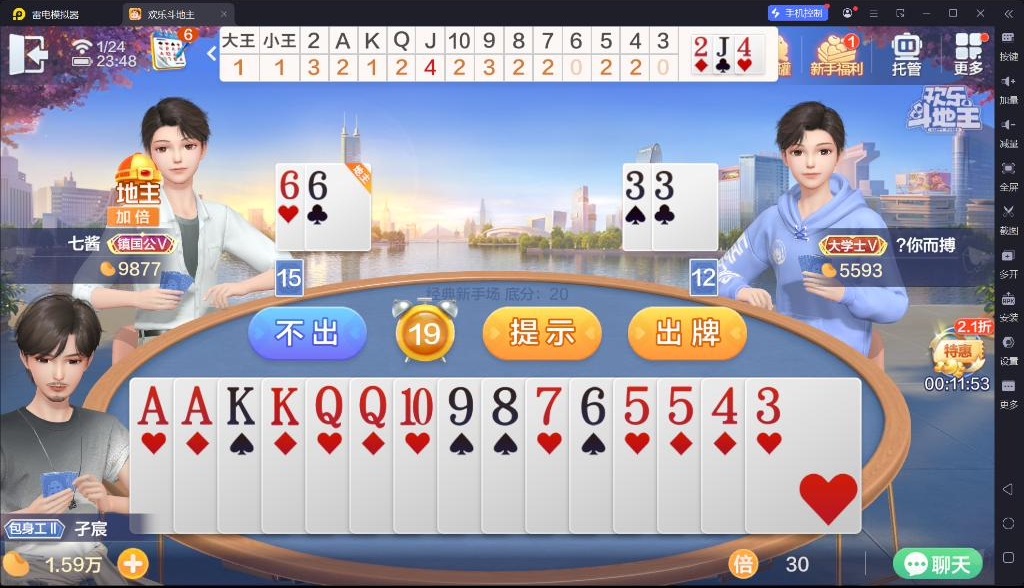A: (135, 383, 171, 428), (178, 382, 213, 428)
J: (716, 35, 732, 57)
K: (267, 383, 301, 428), (223, 384, 257, 428)
Q: (355, 384, 388, 431), (311, 384, 344, 430)
eight: (489, 384, 520, 428)
five: (618, 383, 652, 426), (664, 383, 696, 426)
four: (708, 384, 740, 426), (736, 35, 754, 58)
nine: (445, 384, 476, 427)
seven: (532, 383, 564, 427)
six: (576, 383, 608, 427), (306, 168, 328, 202), (278, 168, 300, 200)
ten: (398, 384, 434, 427)
three: (753, 383, 781, 425), (653, 168, 675, 202), (623, 169, 645, 203)
two: (693, 36, 709, 57)
